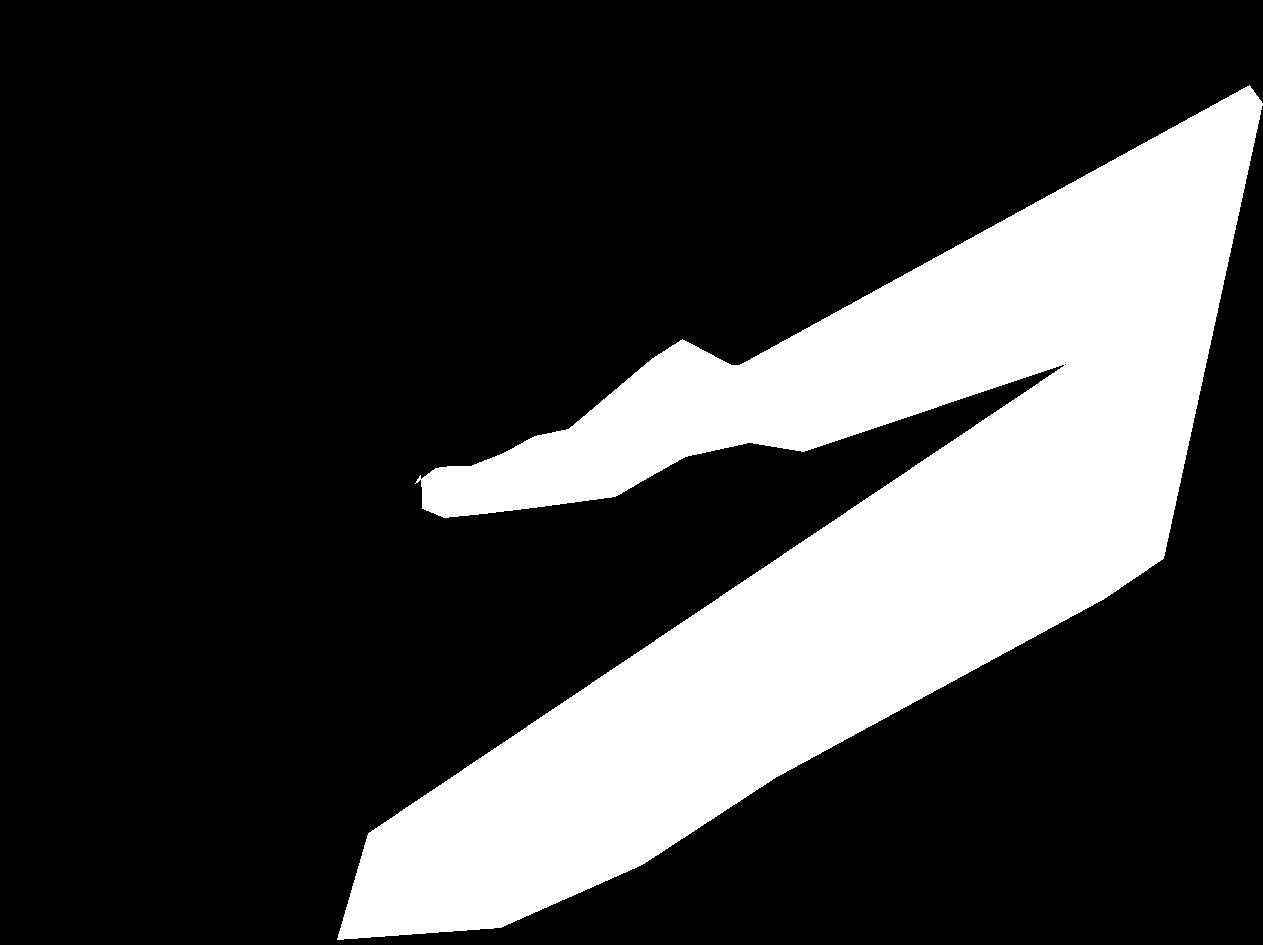Fire: (409, 407, 611, 532)
